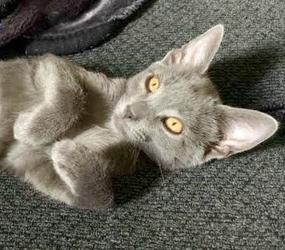rblue: (104, 12, 285, 193)
